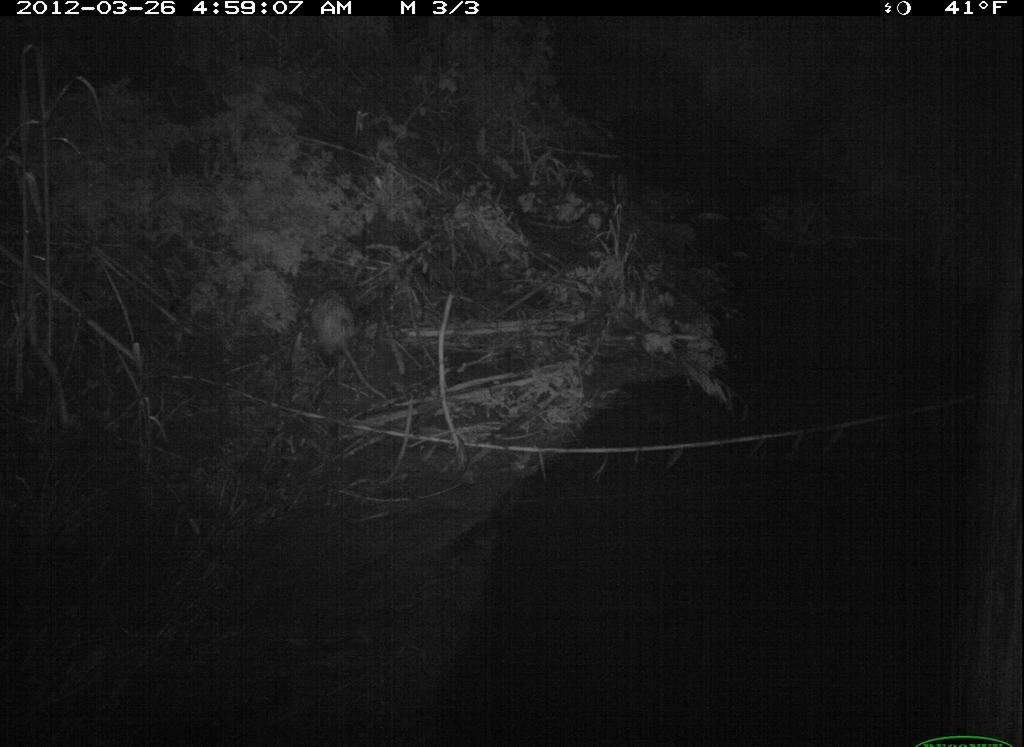opossum: (295, 283, 399, 413)
